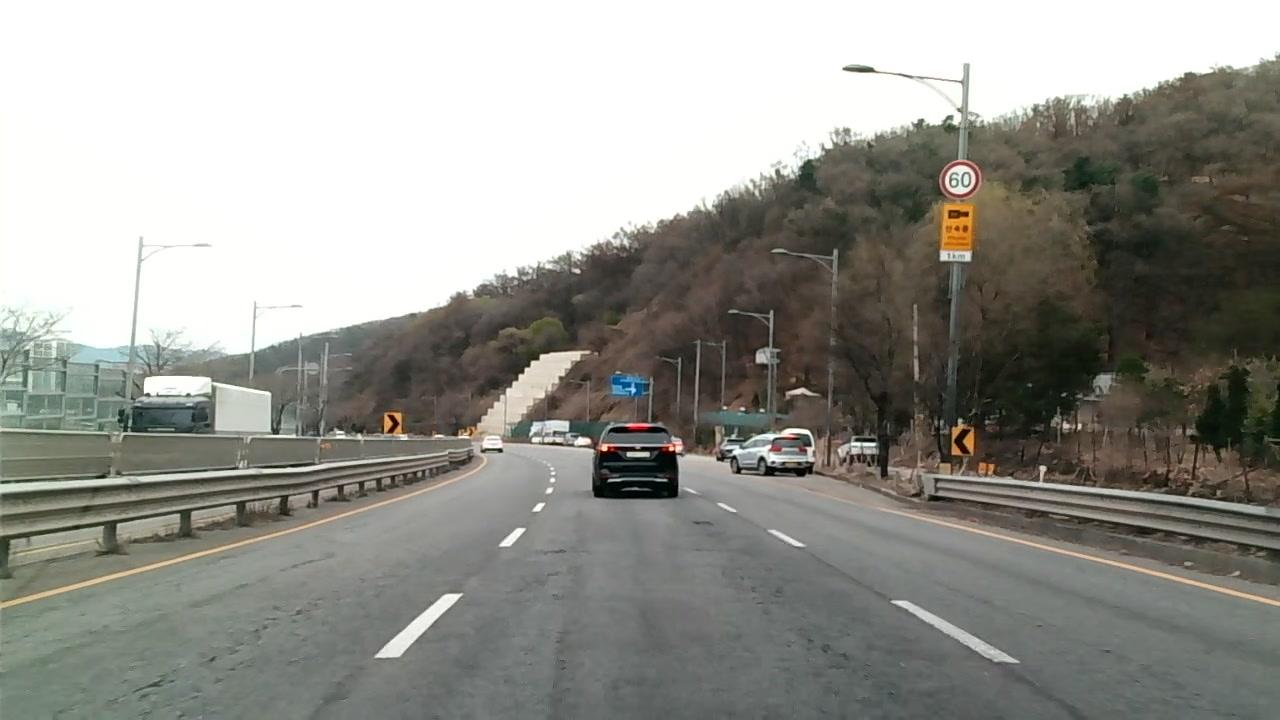banner: (42, 593, 335, 720), (720, 549, 907, 720), (532, 540, 578, 678), (218, 550, 330, 596), (688, 514, 716, 531)
